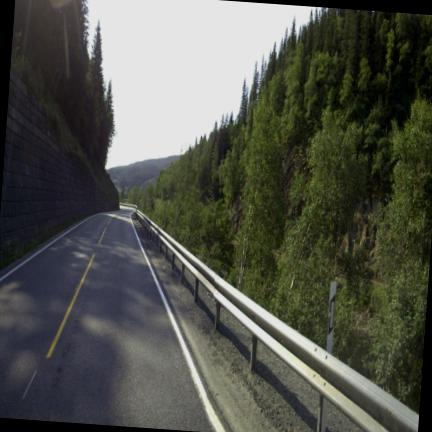Road: (0, 210, 212, 430)
